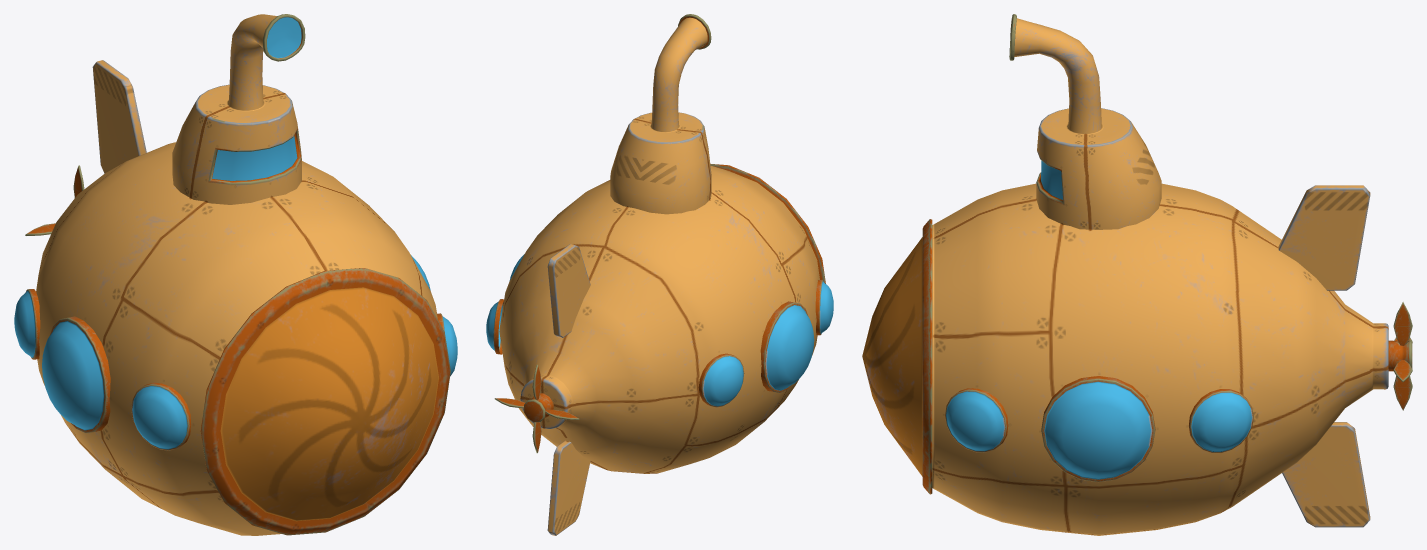
File: submarine.fbx
The picture shows the model from 3 angles, left to right: view 1: azimuth 30°, elevation 25°; view 2: azimuth 150°, elevation 25°; view 3: azimuth 270°, elevation 25°; orthographic projection. The views are drawn at different scales.
Parts seen in each view (by area): view 1: Iron_case, Spyglass, Windows, Wings; view 2: Iron_case, Spyglass, Windows, Wings, Motor; view 3: Iron_case, Spyglass, Windows, Wings, Motor.
Part boxes in pixels (x1=…): Iron_case: x1=36, y1=142, x2=450, y2=535; Spyglass: x1=172, y1=14, x2=305, y2=204; Windows: x1=14, y1=255, x2=457, y2=450; Wings: x1=92, y1=60, x2=146, y2=173; Iron_case: x1=499, y1=164, x2=825, y2=473; Spyglass: x1=610, y1=14, x2=711, y2=214; Windows: x1=486, y1=254, x2=833, y2=407; Wings: x1=547, y1=244, x2=590, y2=535; Motor: x1=494, y1=364, x2=579, y2=453; Iron_case: x1=862, y1=183, x2=1388, y2=535; Spyglass: x1=1009, y1=14, x2=1161, y2=229; Windows: x1=945, y1=376, x2=1253, y2=481; Wings: x1=1278, y1=185, x2=1370, y2=527; Motor: x1=1388, y1=302, x2=1412, y2=410.
Bounding box in the file's own units: 364 × 506 × 493.
1 material, 1 textured.
